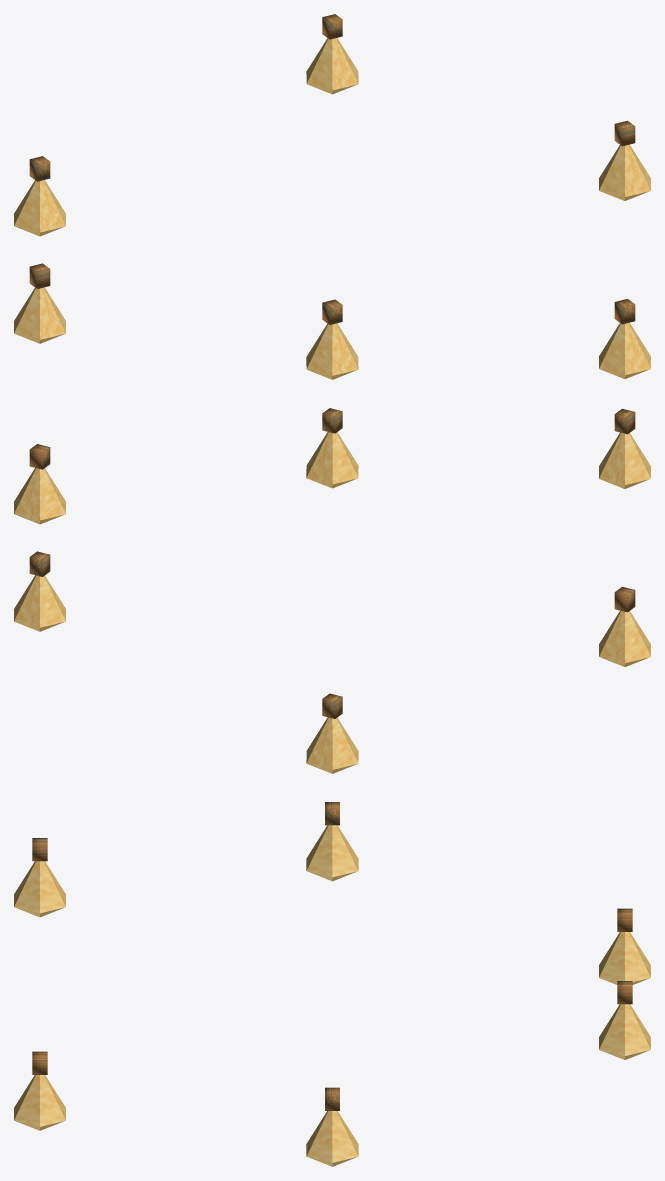
File: rival_wren_bells.obj
3 renders of one model, top to bottom at view 1: azimuth 30°, elevation 25°; view 2: azimuth 150°, elevation 25°; view 3: azimuth 270°, elevation 25°, orthographic.
Visible parts, largest first — view 1: rival_wren_bells; view 2: rival_wren_bells; view 3: rival_wren_bells.
Boxes of the visible parts, left/top/right/bottom form: rival_wren_bells: left=14, top=14, right=650, bottom=379; rival_wren_bells: left=14, top=408, right=650, bottom=773; rival_wren_bells: left=14, top=802, right=650, bottom=1166.
Size of the model in its own units: 1.23 by 0.2699 by 1.06.
